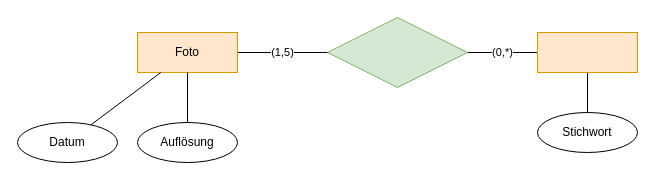
Image size: 655x180. Some labels were removed from this diagram. Each missing label, with the centre of its shape:
"Stichworte" goes at (587,52).
"verschlagwortet mit" goes at (397,52).
